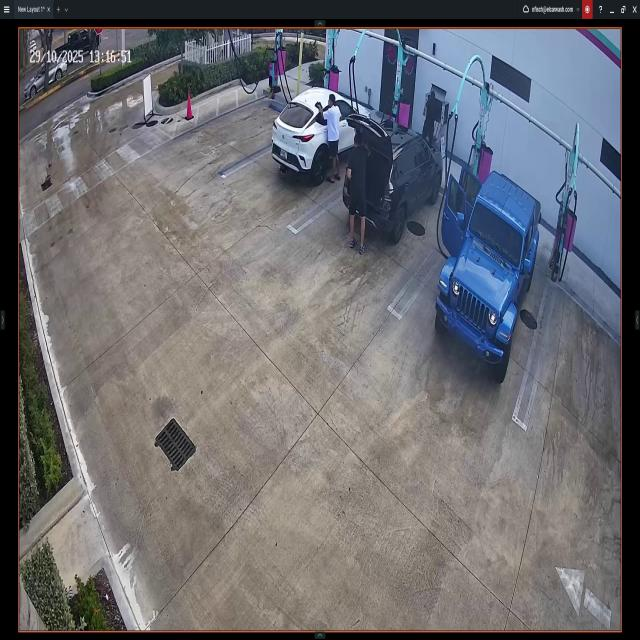Car: (433, 168, 542, 372), (348, 118, 440, 244), (268, 86, 372, 188)
